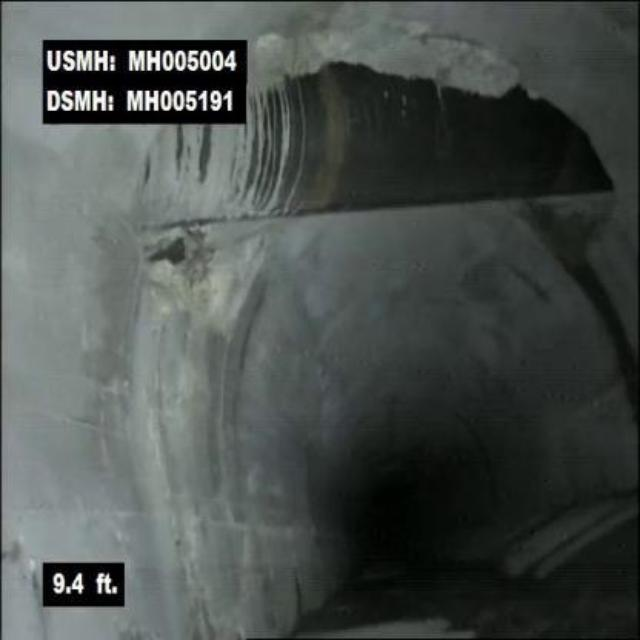Utility intrusion: (265, 38, 638, 222), (140, 125, 634, 238)
